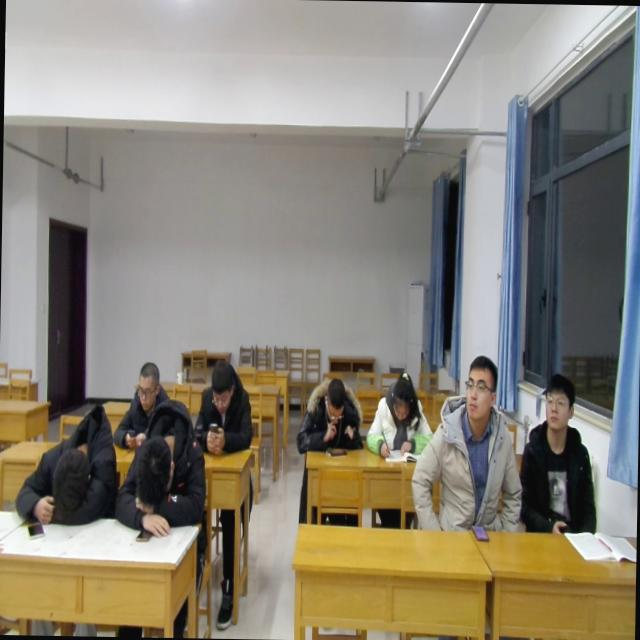bow: (111, 408, 206, 538), (14, 414, 116, 524)
down: (206, 358, 238, 414), (320, 373, 350, 425), (134, 358, 162, 412), (387, 372, 415, 424)
lookup: (462, 352, 498, 429), (540, 372, 576, 432)
sit: (408, 350, 524, 531), (522, 366, 598, 530), (296, 366, 365, 456), (364, 367, 430, 460), (196, 353, 254, 458), (118, 358, 180, 443)
